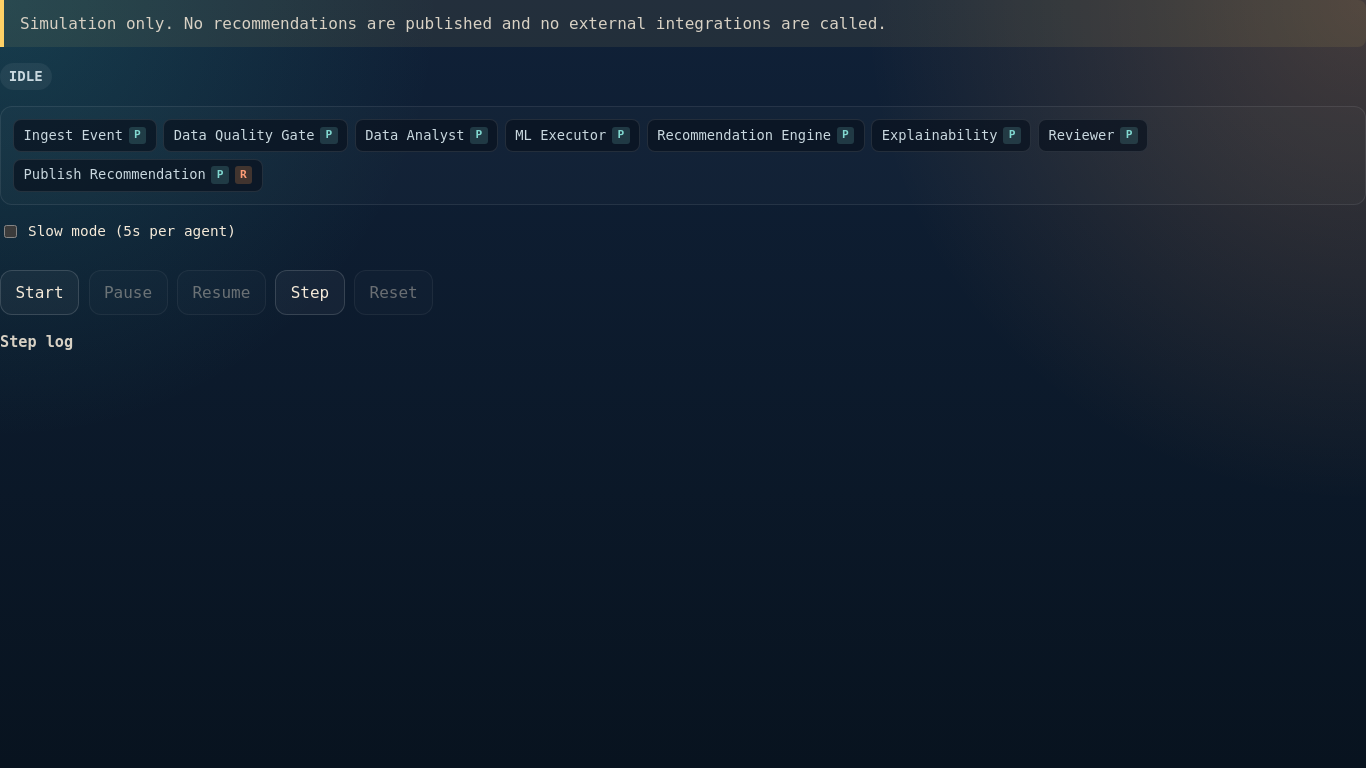
FlowSimulator › shows collaborator interaction in prediction-oriented simulator steps
Step 1. Click the button "Step" → click(310, 292), box [275,270,345,315]
(page scrolled)
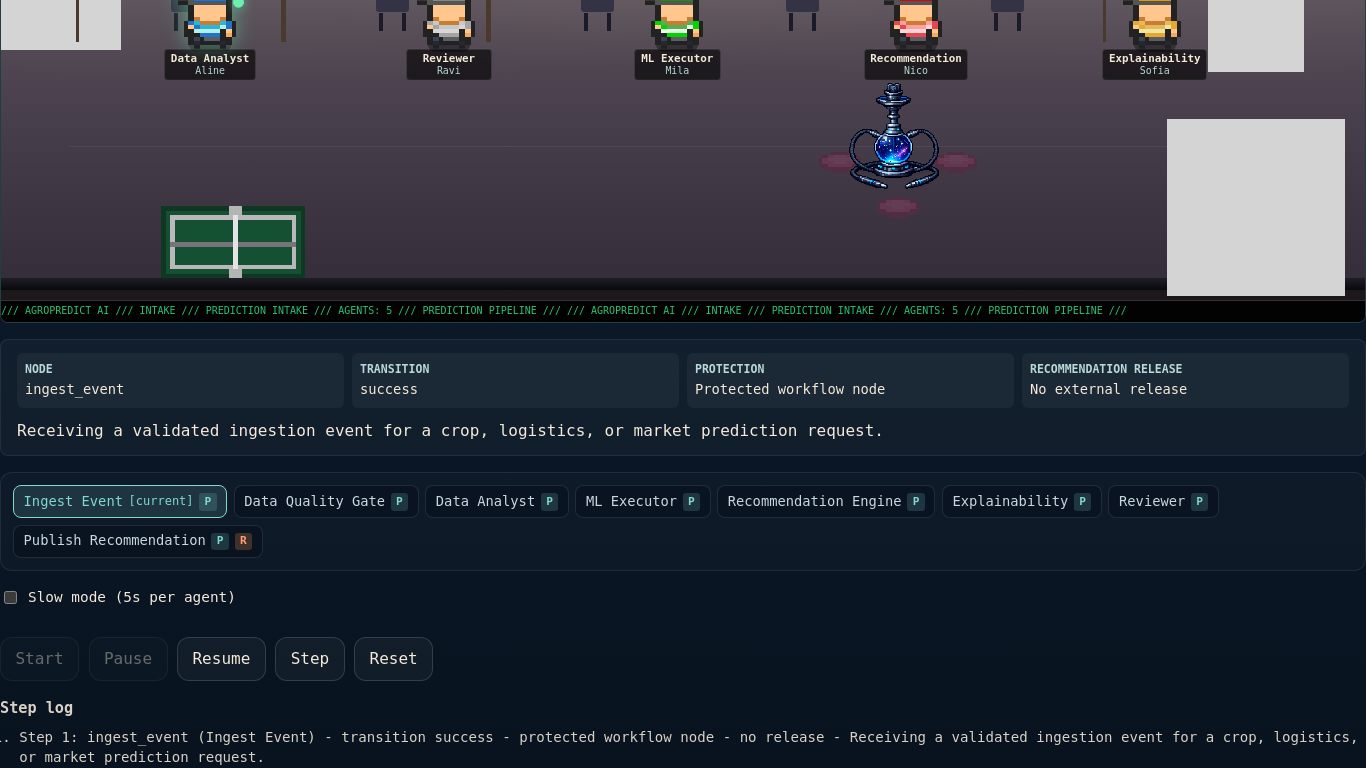
Step 2. Click the button "Step" → click(310, 659), box [275,637,345,681]
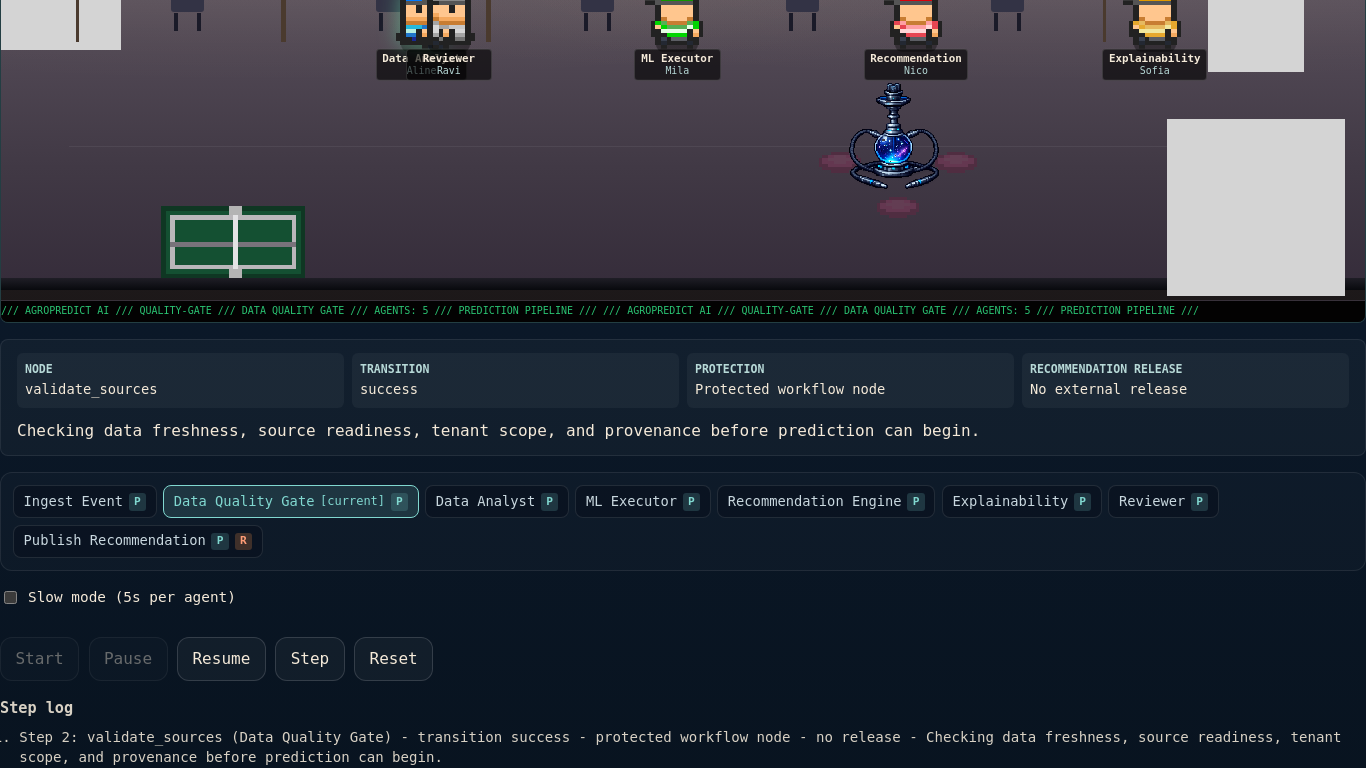
Step 3. Click the button "Step" → click(310, 659), box [275,637,345,681]
(page scrolled)
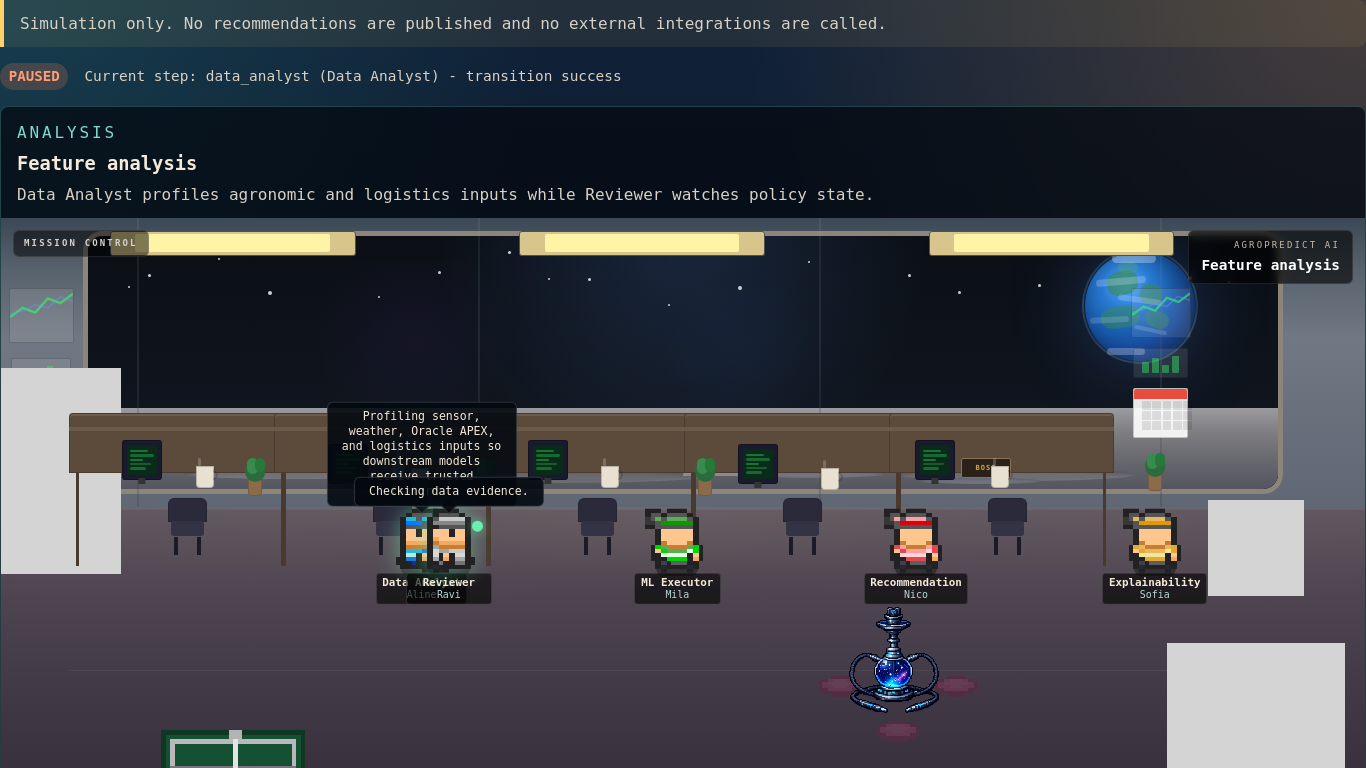
Expected: the list item with aria-label "Data Analyst active" is shown, [370,508,474,605]
Expected: the list item with aria-label "Reviewer active" is shown, [397,508,501,605]
Expected: the text "profiles agronomic and logistics inputs" is shown, [17,185,874,204]
